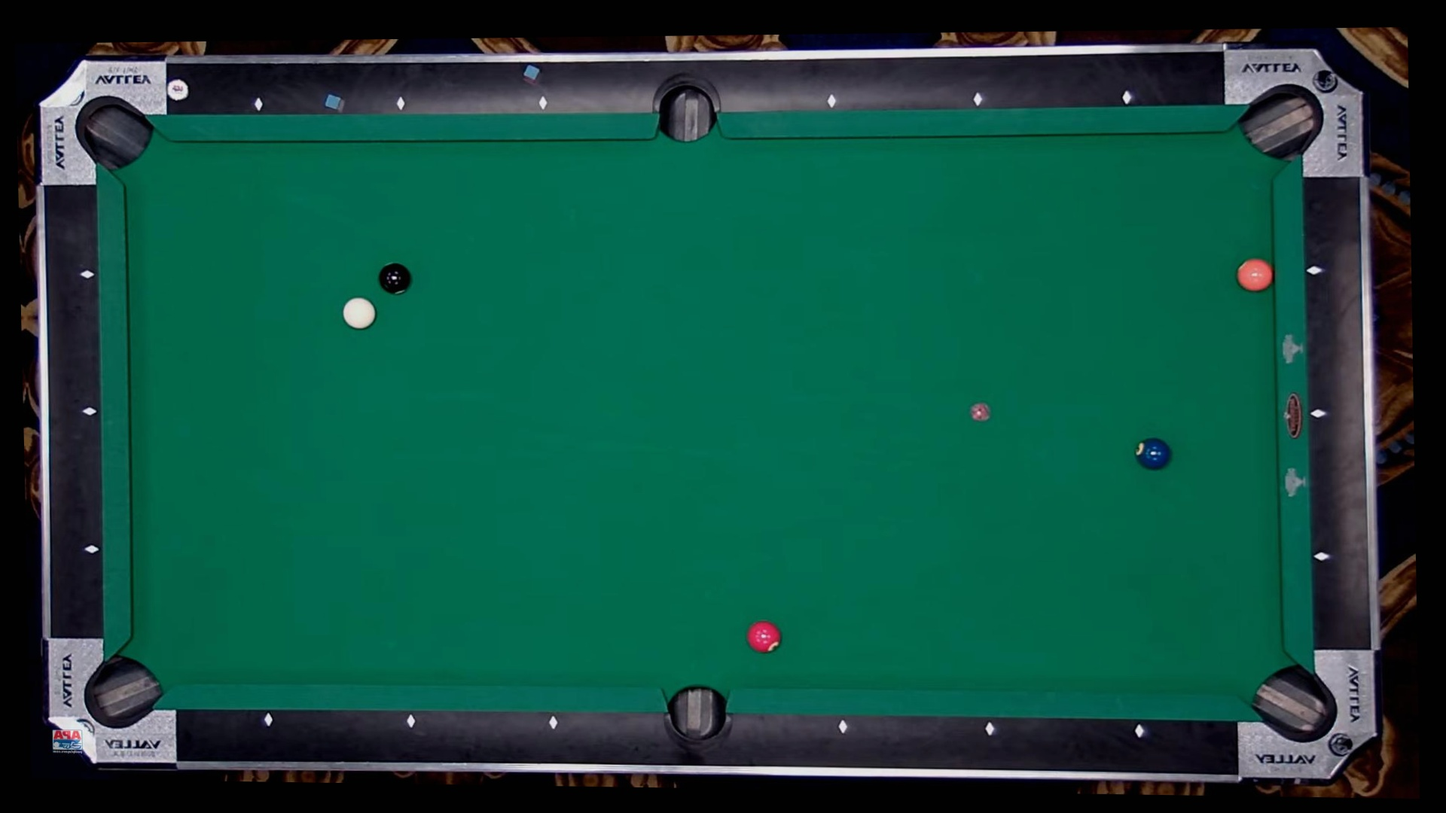Black: (378, 261, 413, 296)
Cue: (342, 296, 376, 331)
Solid: (548, 718, 559, 729), (840, 720, 851, 731), (1314, 409, 1325, 419), (1308, 264, 1319, 274), (1121, 93, 1131, 104), (973, 95, 984, 105), (538, 97, 548, 108), (396, 99, 407, 109), (81, 271, 92, 281), (85, 407, 96, 417), (87, 544, 97, 555), (262, 715, 273, 725), (407, 716, 417, 727), (986, 724, 996, 735), (1318, 551, 1328, 561), (826, 96, 836, 106), (255, 99, 265, 109), (1135, 726, 1145, 736)
Striped: (1135, 437, 1171, 471), (1236, 258, 1272, 292), (746, 619, 781, 653)
